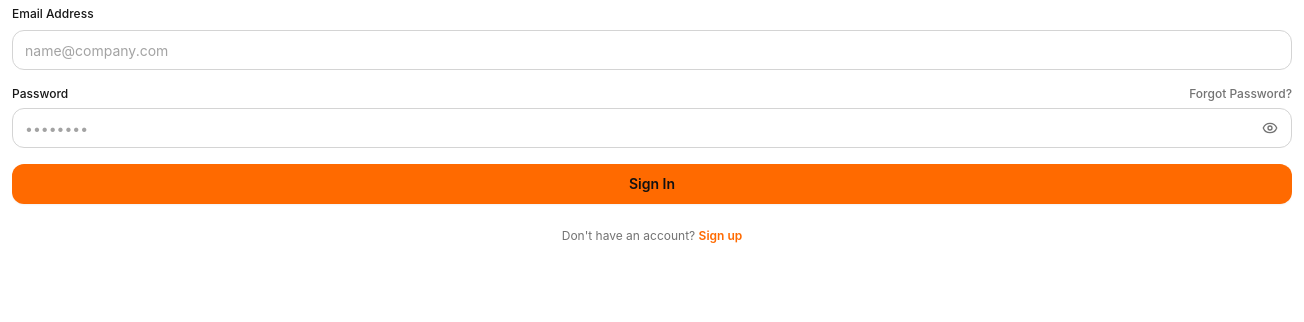
Test: LoginForm › displays server error banner when API returns error
Type "user@taskflow.dev" into the field labelled "Email Address" at (652, 50), box [12, 30, 1292, 70]
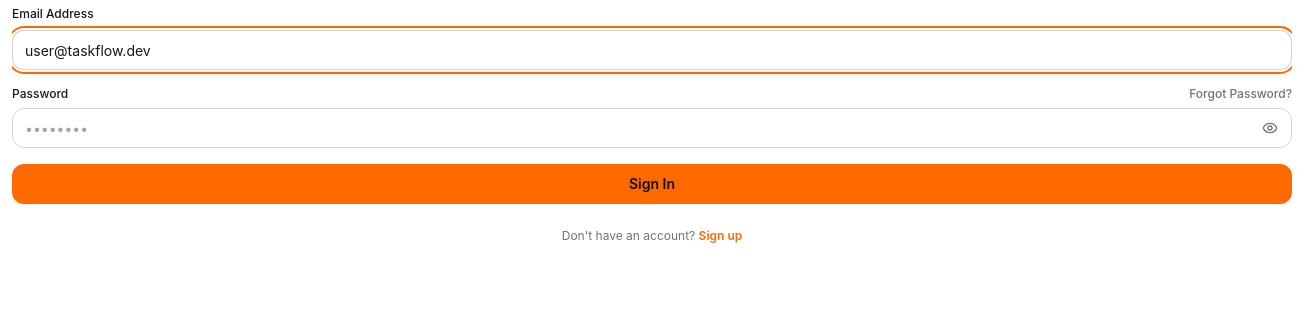
Type "wrongpass" into the password field labelled "Password" at (652, 128), box [12, 108, 1292, 148]
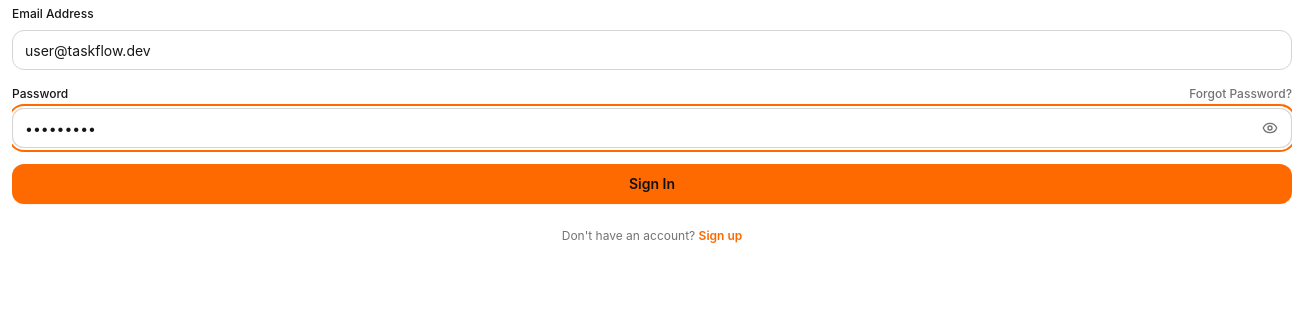
Click the button "Sign In" at (652, 184), box [12, 164, 1292, 204]
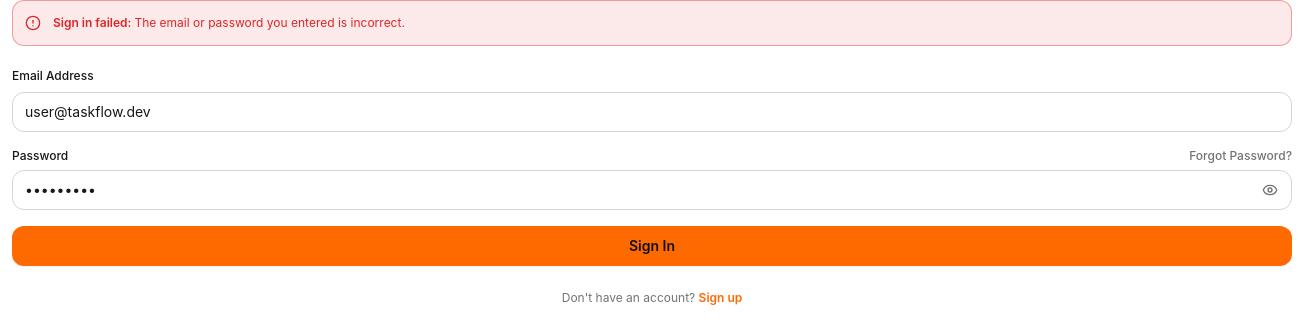
Expected: the message shows "The email or password you entered is incorrect.", [134, 15, 405, 30]
